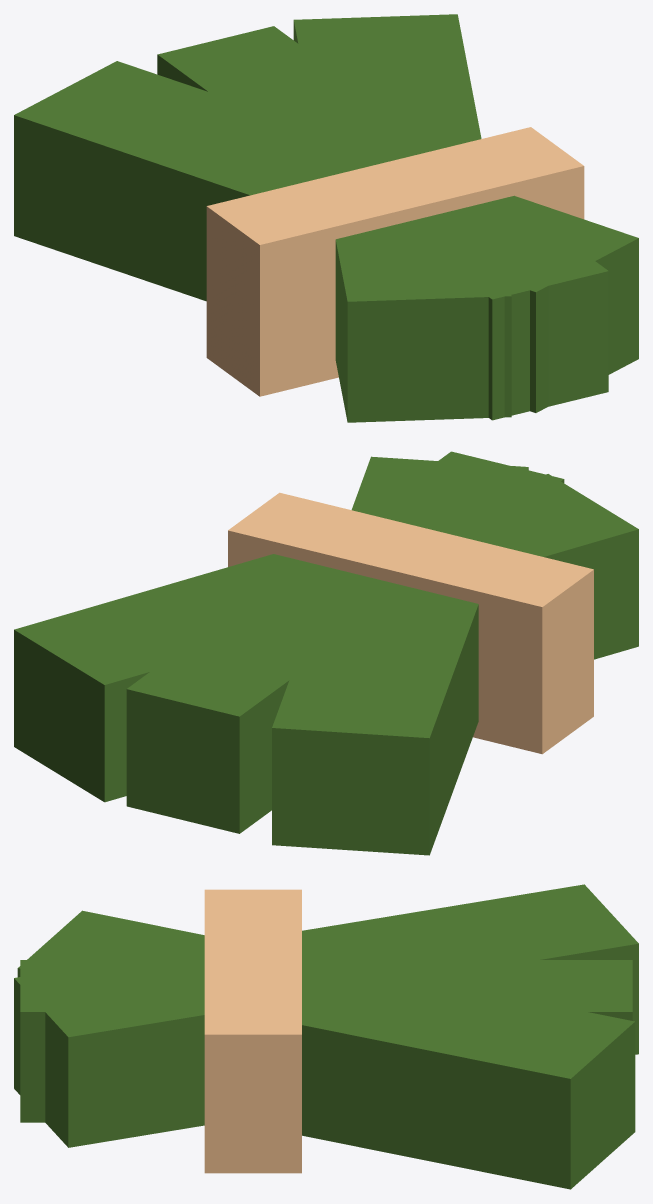
The model's file is Item.FBX.
3 renders of one model, top to bottom at view 1: azimuth 30°, elevation 25°; view 2: azimuth 150°, elevation 25°; view 3: azimuth 270°, elevation 25°, orthographic. The views are drawn at different scales.
Parts seen in each view (by area): view 1: Box002, Box003, Box004, Box001; view 2: Box002, Box003, Box001, Box004; view 3: Box003, Box002, Box004, Box001.
Part boxes in pixels (x1=…): Box002: x1=14, y1=61, x2=638, y2=412; Box003: x1=293, y1=14, x2=511, y2=422; Box004: x1=206, y1=127, x2=584, y2=396; Box001: x1=157, y1=26, x2=608, y2=420; Box002: x1=272, y1=456, x2=528, y2=855; Box003: x1=14, y1=474, x2=638, y2=802; Box001: x1=126, y1=451, x2=564, y2=833; Box004: x1=228, y1=492, x2=593, y2=754; Box003: x1=17, y1=910, x2=635, y2=1189; Box002: x1=14, y1=884, x2=638, y2=1147; Box004: x1=204, y1=889, x2=301, y2=1173; Box001: x1=20, y1=960, x2=632, y2=1122.
Bounding box in the file's own units: 1.05 × 0.3488 × 1.42.
Materials: 2 (2 with a texture image).
